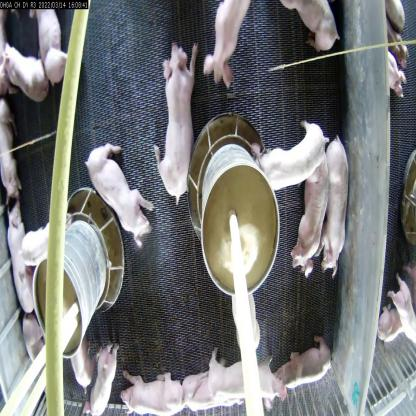Pig: (85, 118, 153, 245), (152, 37, 206, 195), (282, 141, 328, 264), (252, 118, 325, 195), (277, 329, 343, 397), (206, 0, 254, 87), (325, 136, 353, 266), (209, 350, 278, 398), (26, 4, 64, 84), (0, 35, 44, 103), (86, 347, 130, 415), (0, 93, 30, 183), (4, 209, 29, 314), (132, 370, 184, 415), (183, 370, 224, 415), (25, 230, 61, 270)
